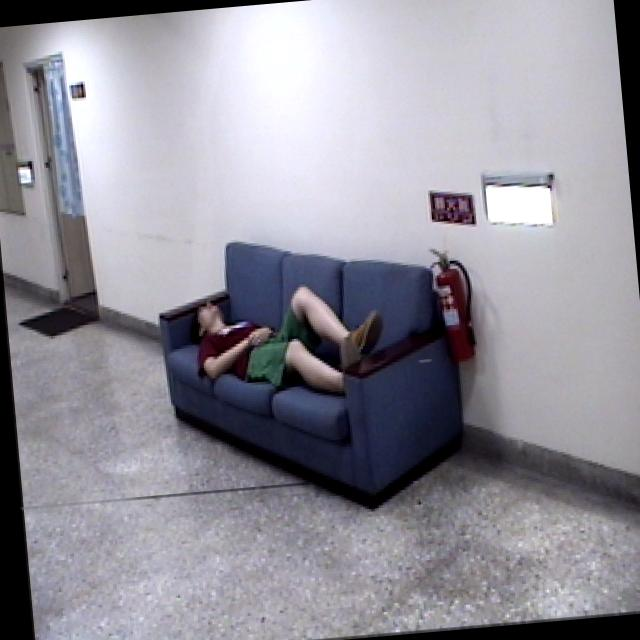lie: (180, 268, 407, 411)
